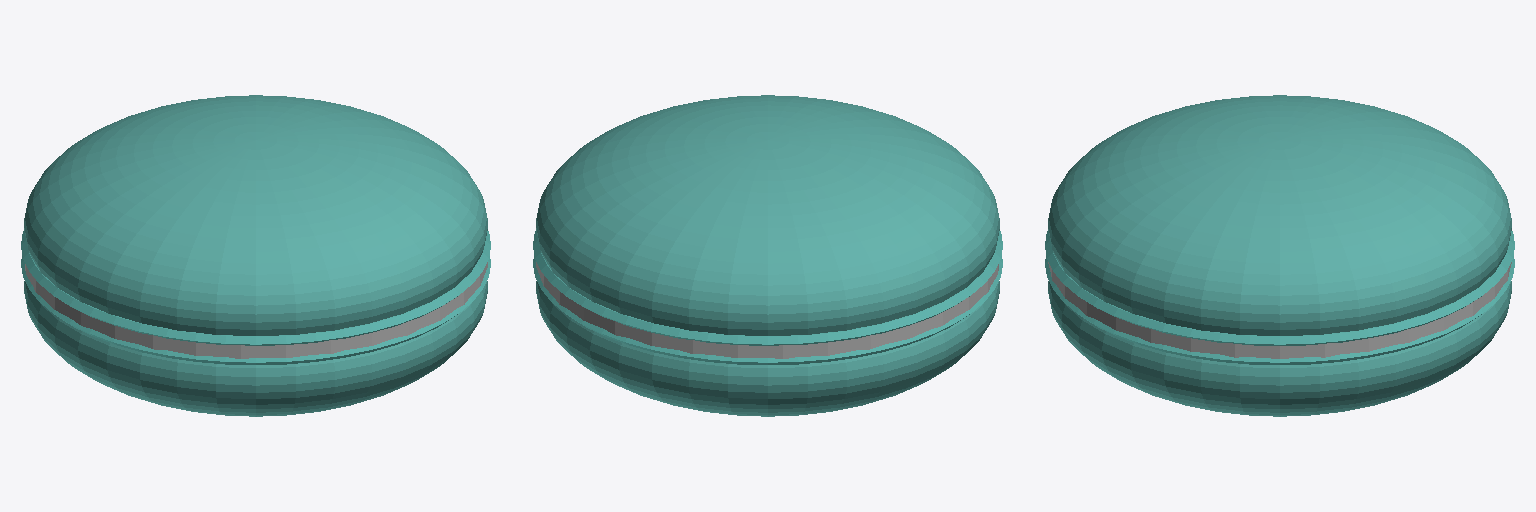
File: makalong6.obj
The picture shows the model from 3 angles: view 1: azimuth 30°, elevation 25°; view 2: azimuth 150°, elevation 25°; view 3: azimuth 270°, elevation 25°; orthographic projection.
Visible parts, largest first — view 1: Sphere_Sphere.001, Sphere.001_Sphere.002, Cylinder, Torus.001, Torus; view 2: Sphere_Sphere.001, Sphere.001_Sphere.002, Cylinder, Torus.001, Torus; view 3: Sphere_Sphere.001, Sphere.001_Sphere.002, Cylinder, Torus.001, Torus.
Boxes of the visible parts, x1=… form: Sphere_Sphere.001: x1=24, y1=95, x2=487, y2=335; Sphere.001_Sphere.002: x1=24, y1=281, x2=487, y2=416; Cylinder: x1=25, y1=262, x2=487, y2=358; Torus.001: x1=21, y1=231, x2=490, y2=345; Torus: x1=21, y1=256, x2=490, y2=364; Sphere_Sphere.001: x1=536, y1=95, x2=999, y2=335; Sphere.001_Sphere.002: x1=536, y1=281, x2=999, y2=416; Cylinder: x1=536, y1=262, x2=998, y2=358; Torus.001: x1=533, y1=231, x2=1002, y2=345; Torus: x1=533, y1=256, x2=1002, y2=364; Sphere_Sphere.001: x1=1048, y1=95, x2=1511, y2=335; Sphere.001_Sphere.002: x1=1048, y1=281, x2=1511, y2=416; Cylinder: x1=1048, y1=262, x2=1511, y2=358; Torus.001: x1=1045, y1=231, x2=1514, y2=345; Torus: x1=1045, y1=256, x2=1514, y2=364.
Bounding box in the file's own units: 2.02 × 1.1 × 2.02.